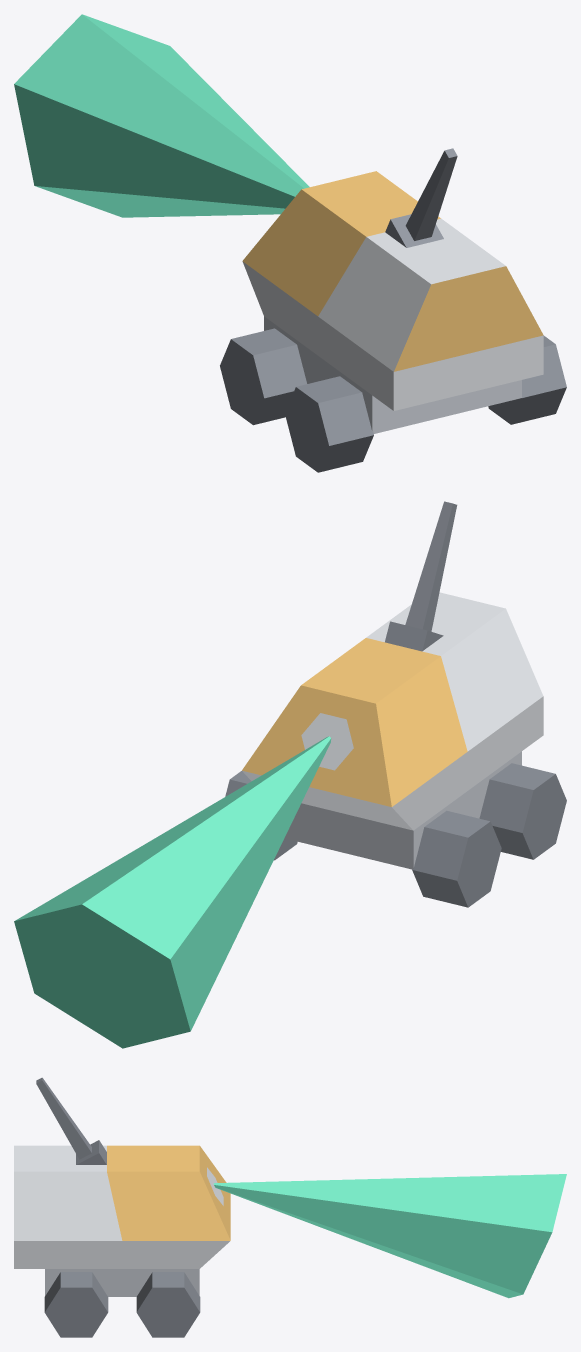
Rendered from rover.glb.
3 renders of one model, top to bottom at view 1: azimuth 30°, elevation 25°; view 2: azimuth 150°, elevation 25°; view 3: azimuth 270°, elevation 25°, orthographic. The views are drawn at different scales.
Visible parts, largest first — view 1: unit_rover, effect, wheel_bl, wheel_fl, wheel_br; view 2: unit_rover, effect, wheel_fl, wheel_bl; view 3: unit_rover, effect, wheel_fr, wheel_br.
Part boxes in pixels (bbox=[...]): unit_rover: bbox=[242, 148, 543, 433]; effect: bbox=[14, 14, 309, 217]; wheel_bl: bbox=[285, 376, 373, 472]; wheel_fl: bbox=[220, 328, 306, 425]; wheel_br: bbox=[488, 335, 566, 424]; unit_rover: bbox=[242, 501, 543, 869]; effect: bbox=[14, 736, 331, 1048]; wheel_fl: bbox=[412, 810, 501, 907]; wheel_bl: bbox=[479, 763, 566, 859]; unit_rover: bbox=[14, 1077, 230, 1296]; effect: bbox=[213, 1174, 566, 1298]; wheel_fr: bbox=[136, 1272, 200, 1337]; wheel_br: bbox=[44, 1272, 108, 1337].
Size of the model in its own units: 2.65 by 3.25 by 7.42.
